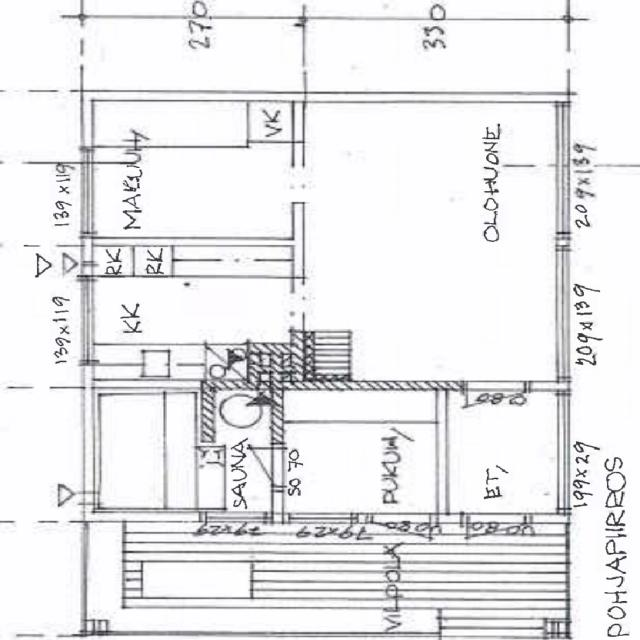door: (368, 514, 430, 571), (467, 514, 528, 569), (467, 380, 525, 433), (221, 448, 283, 487)
